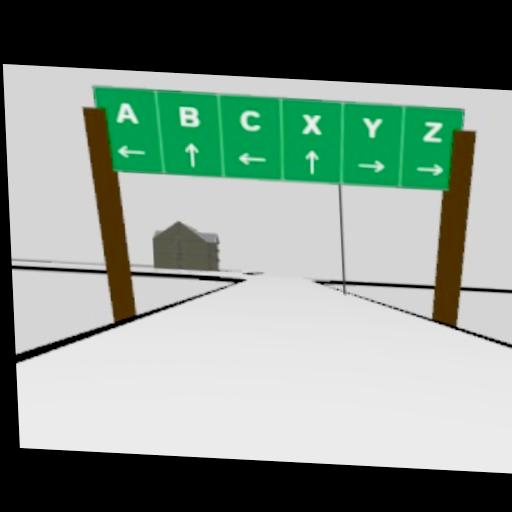A: (114, 101, 139, 124)
B: (177, 104, 199, 127)
C: (240, 108, 262, 131)
Left: (237, 151, 268, 166), (117, 144, 146, 159)
Right: (357, 157, 386, 173), (416, 162, 443, 176)
Straight: (304, 148, 321, 175), (184, 140, 199, 167)
X: (300, 113, 322, 135)
Y: (361, 116, 383, 138)
Z: (420, 120, 443, 143)
